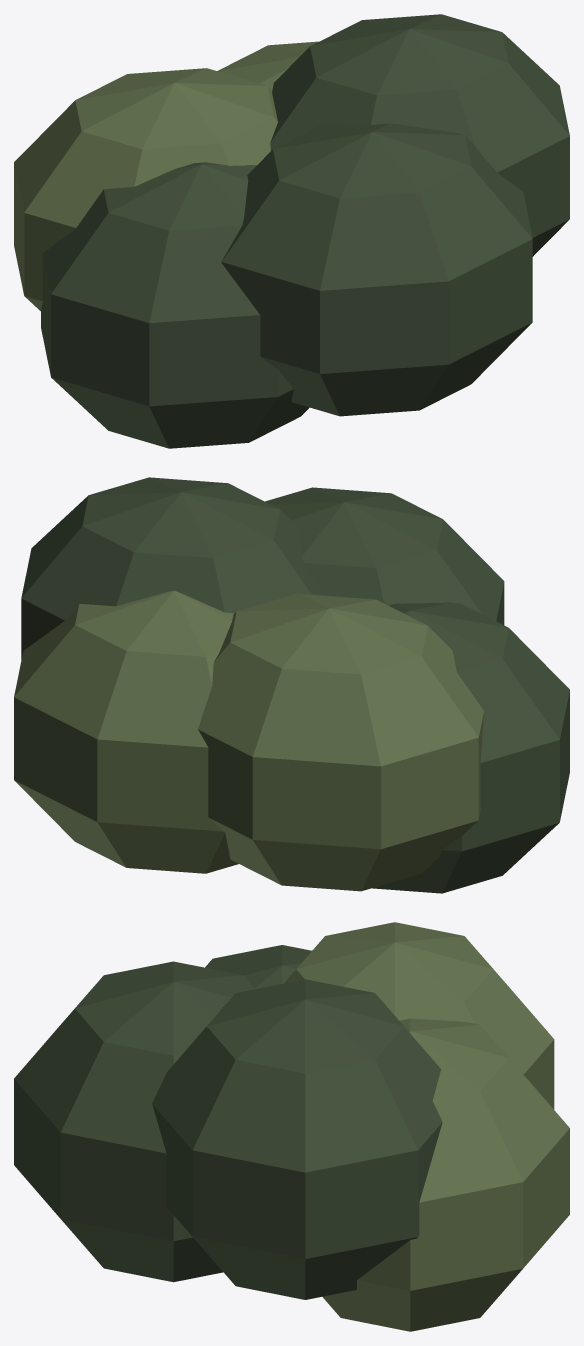
Rendered from Bush_01.glb.
3 renders of one model, top to bottom at view 1: azimuth 30°, elevation 25°; view 2: azimuth 150°, elevation 25°; view 3: azimuth 270°, elevation 25°, orthographic. The views are drawn at different scales.
Visible parts, largest first — view 1: Bush_01; view 2: Bush_01; view 3: Bush_01.
Boxes of the visible parts, <box> form: Bush_01: <box>14,14,569,448</box>; Bush_01: <box>14,477,569,893</box>; Bush_01: <box>14,922,569,1331</box>.
Size of the model in its own units: 1.41 by 0.8917 by 1.26.
